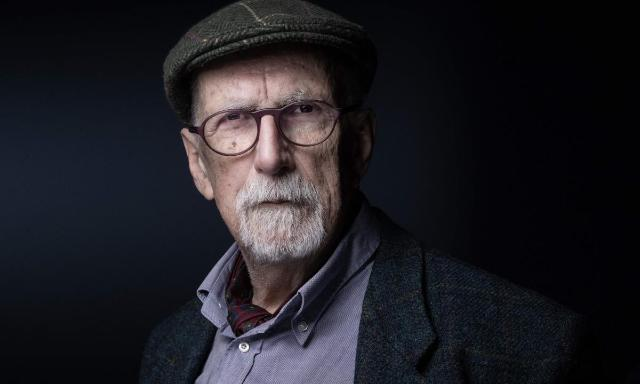crows_feet: (205, 121, 218, 141)
frown_line: (256, 75, 278, 101)
masseter: (323, 183, 337, 217)
